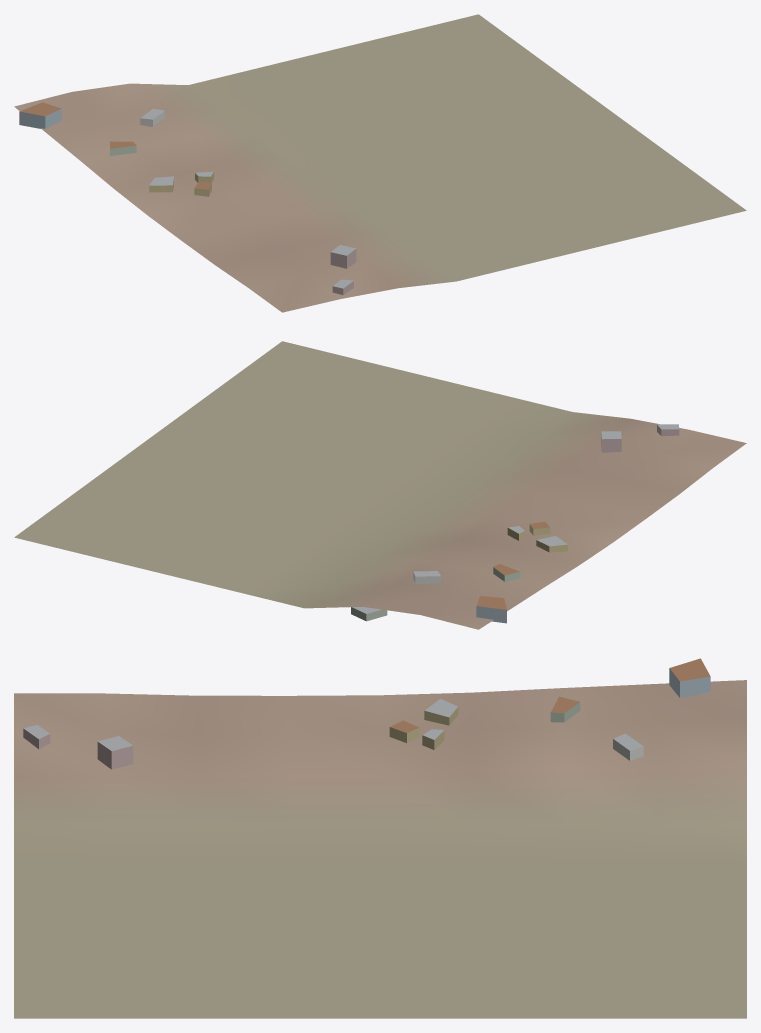
The picture shows the model from 3 angles, top to bottom: view 1: azimuth 30°, elevation 25°; view 2: azimuth 150°, elevation 25°; view 3: azimuth 270°, elevation 25°; orthographic projection. The views are drawn at different scales.
Visible parts, largest first — view 1: Lo; view 2: Lo; view 3: Lo.
Part boxes in pixels (bbox=[...]): Lo: bbox=[14, 14, 746, 312]; Lo: bbox=[14, 341, 746, 629]; Lo: bbox=[14, 658, 746, 1018].
Bounding box in the file's own units: 262 × 16.76 × 256.
